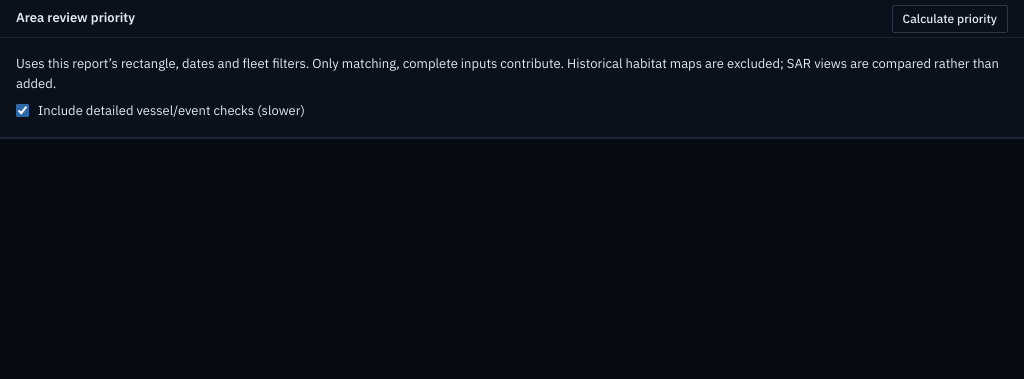
Test: shows missing marine inputs and the actual forecast-date mismatch
Click the button "Calculate priority" at (950, 18), box [892,4,1008,32]
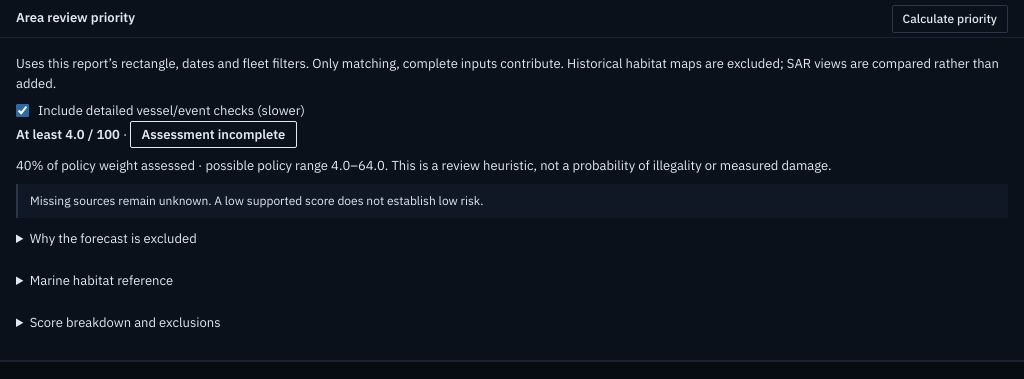
Check: the heading "Marine habitat reference" is shown, box [30,272,173,289]
Check: the heading "Why the forecast is excluded" is shown, box [30,230,197,247]
